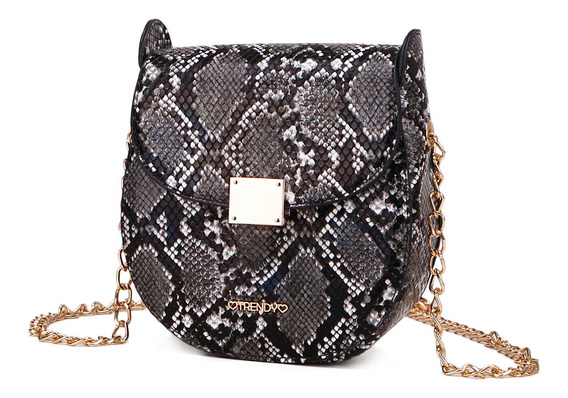cartera: (117, 17, 442, 370)
